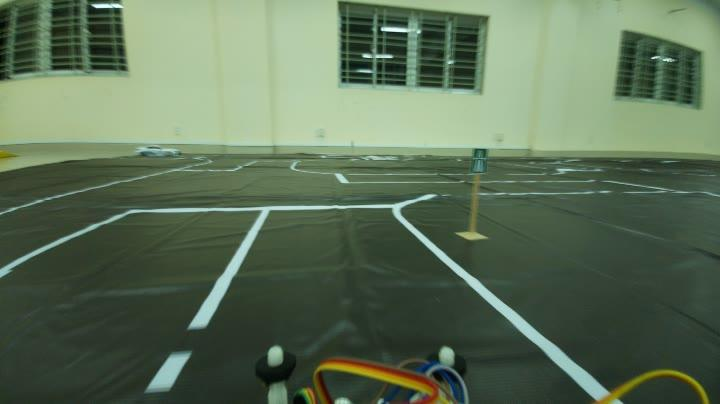highway_entry: (462, 138, 496, 186)
